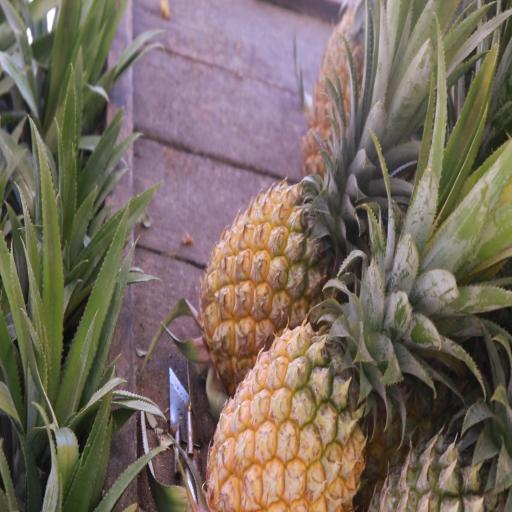Pineapple - v8 v1: (202, 278, 371, 512), (194, 180, 354, 402)
